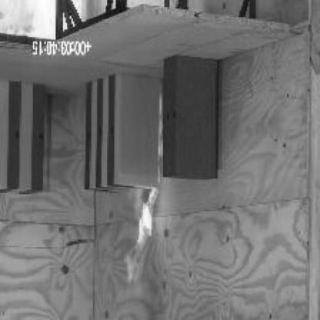Fire: (124, 172, 168, 316)
